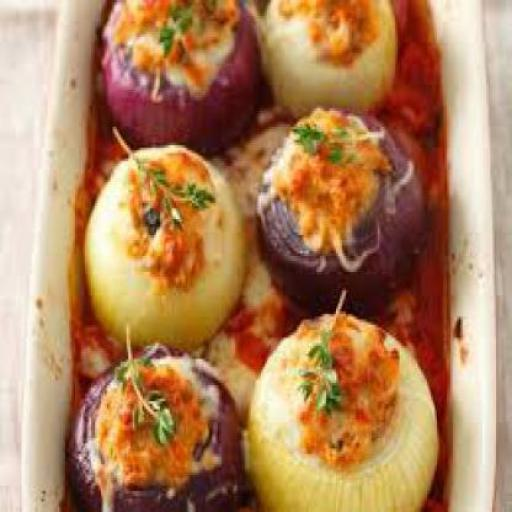biodegradable: (246, 302, 435, 510), (258, 100, 424, 314), (78, 140, 244, 342), (63, 344, 243, 510), (98, 0, 261, 148), (259, 0, 396, 113)
